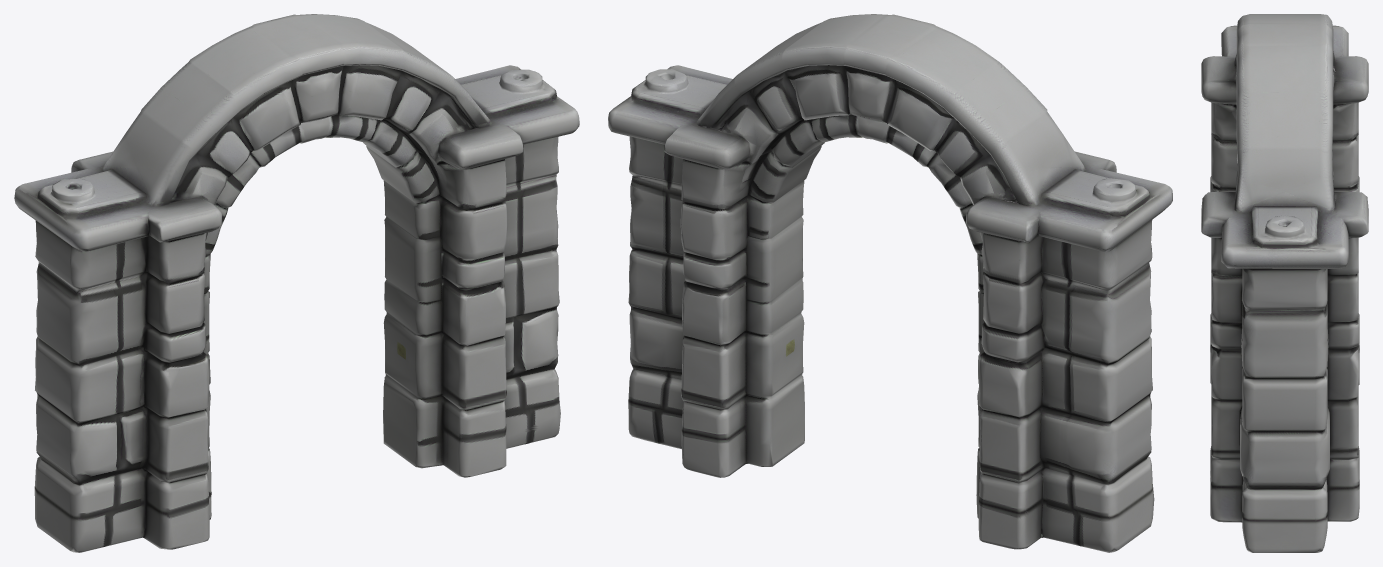
The model's file is manor_gate.glb.
3 views of the same model, side by side, from view 1: azimuth 30°, elevation 25°; view 2: azimuth 150°, elevation 25°; view 3: azimuth 270°, elevation 25° (orthographic). The views are drawn at different scales.
Bounding box in the file's own units: 1.91 × 1.61 × 0.591.
Materials: 1 (1 with a texture image).
